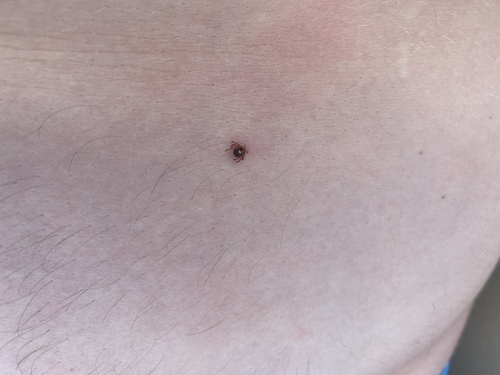dog tick: (224, 141, 254, 167)
